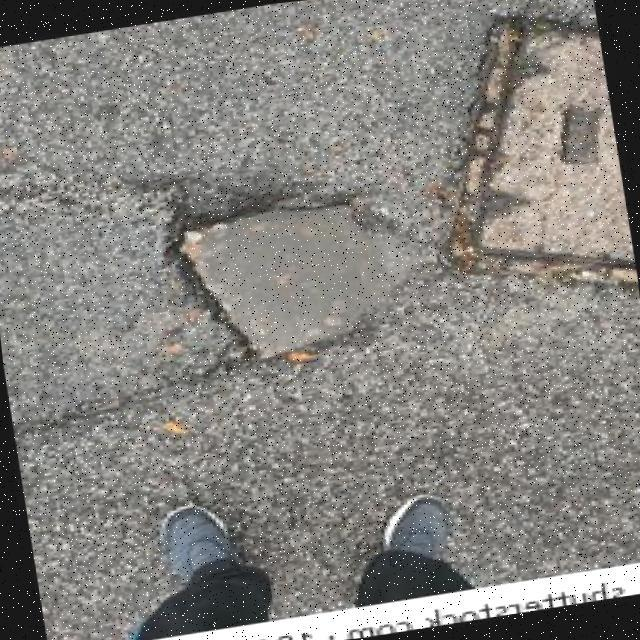Pothole: (164, 191, 424, 356)
